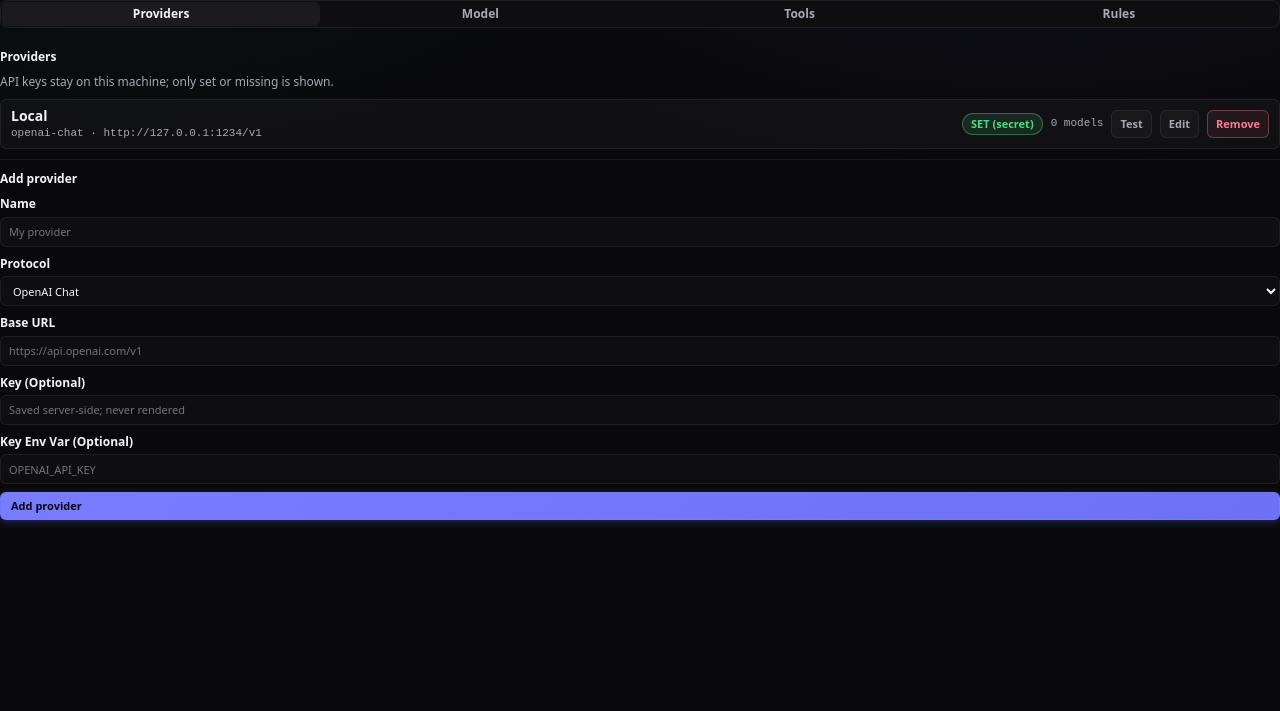
Test: settings provider editing › cancels an edit without sending a request
Click the button with test id "edit-provider-local". click: (1179, 124)
box: top-left (1160, 110), bottom-right (1199, 138)
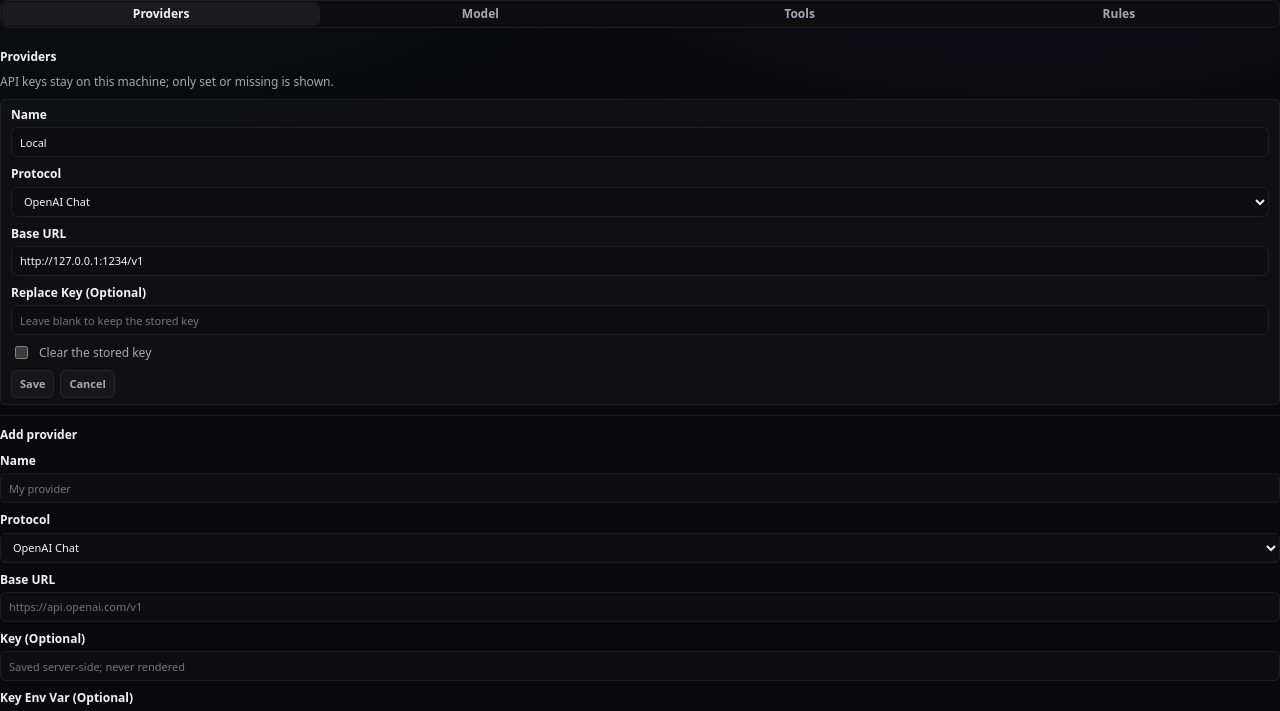
Expected: the form with test id "provider-edit" is shown, top-left (11, 106), bottom-right (1269, 398)
Click the button with test id "cancel-provider-edit". click: (88, 384)
box: top-left (60, 370), bottom-right (115, 398)
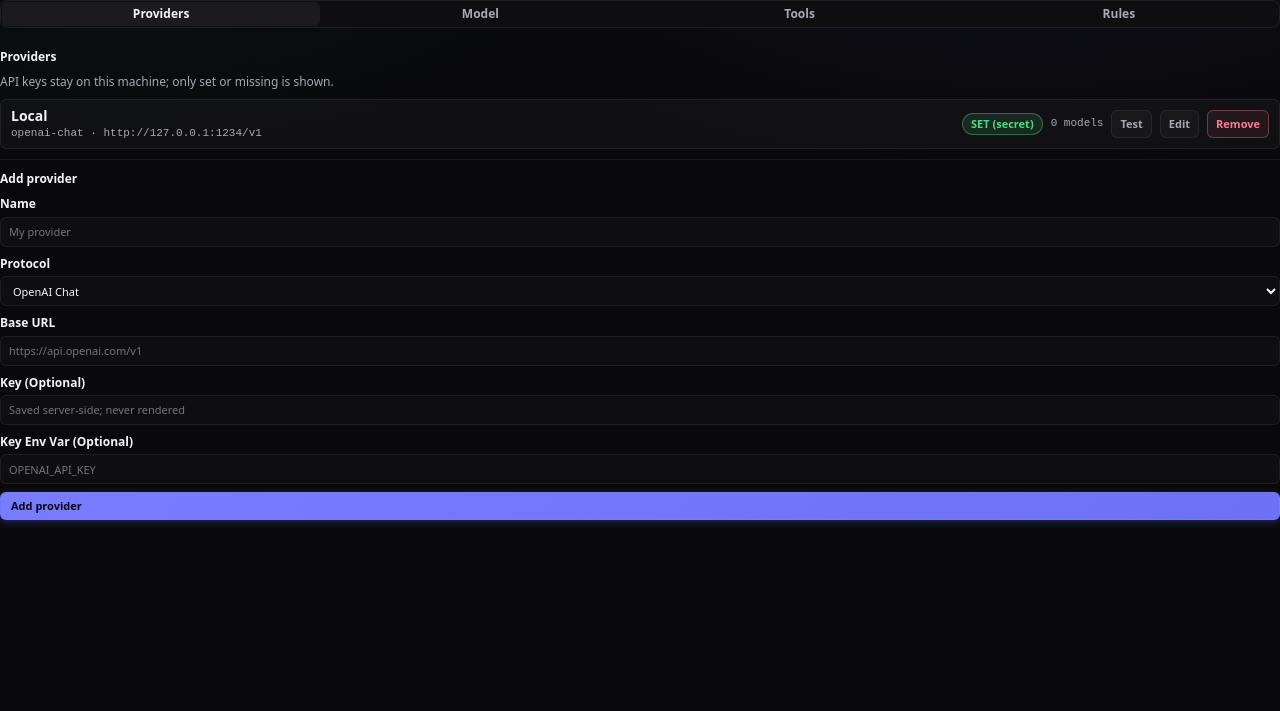
Expected: the form with test id "provider-edit" is gone
